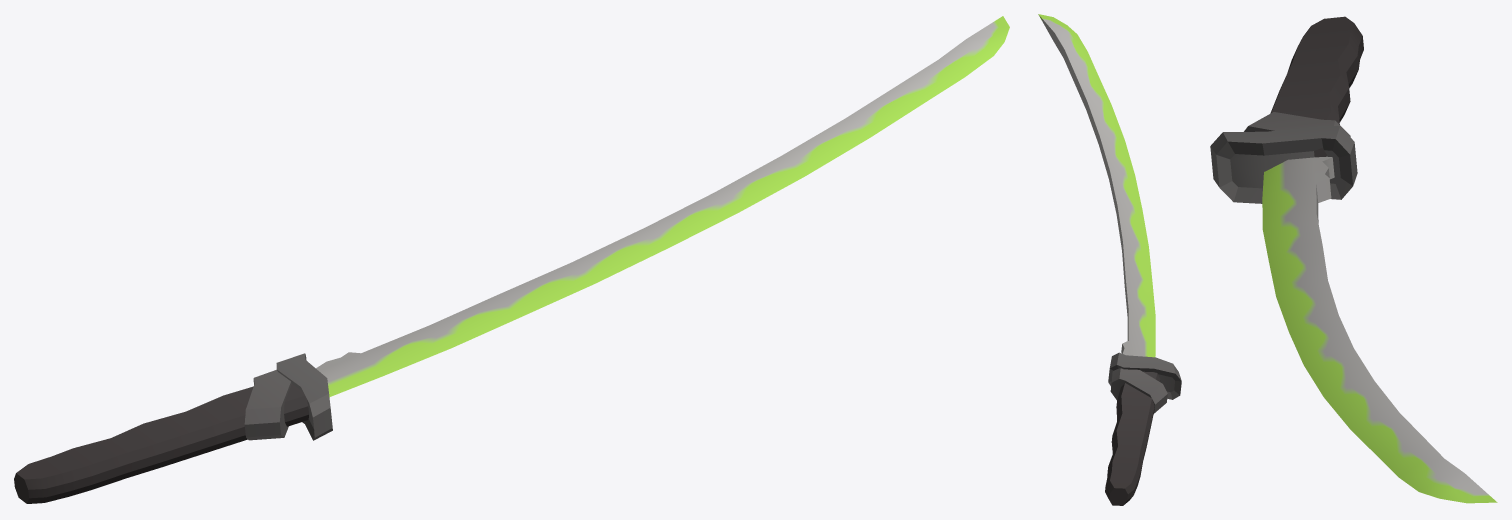
File: w_katana@attack2.FBX
The picture shows the model from 3 angles, left to right: view 1: azimuth 90°, elevation 25°; view 2: azimuth 150°, elevation 25°; view 3: azimuth 330°, elevation 25°; orthographic projection. The views are drawn at different scales.
Visible parts, largest first — view 1: Box003; view 2: Box003; view 3: Box003.
Part boxes in pixels (x1,y1,x2,y2): Box003: [14, 16, 1009, 503]; Box003: [1038, 14, 1181, 505]; Box003: [1210, 16, 1497, 503].
Bounding box in the file's own units: 84.34 × 25.06 × 118.
